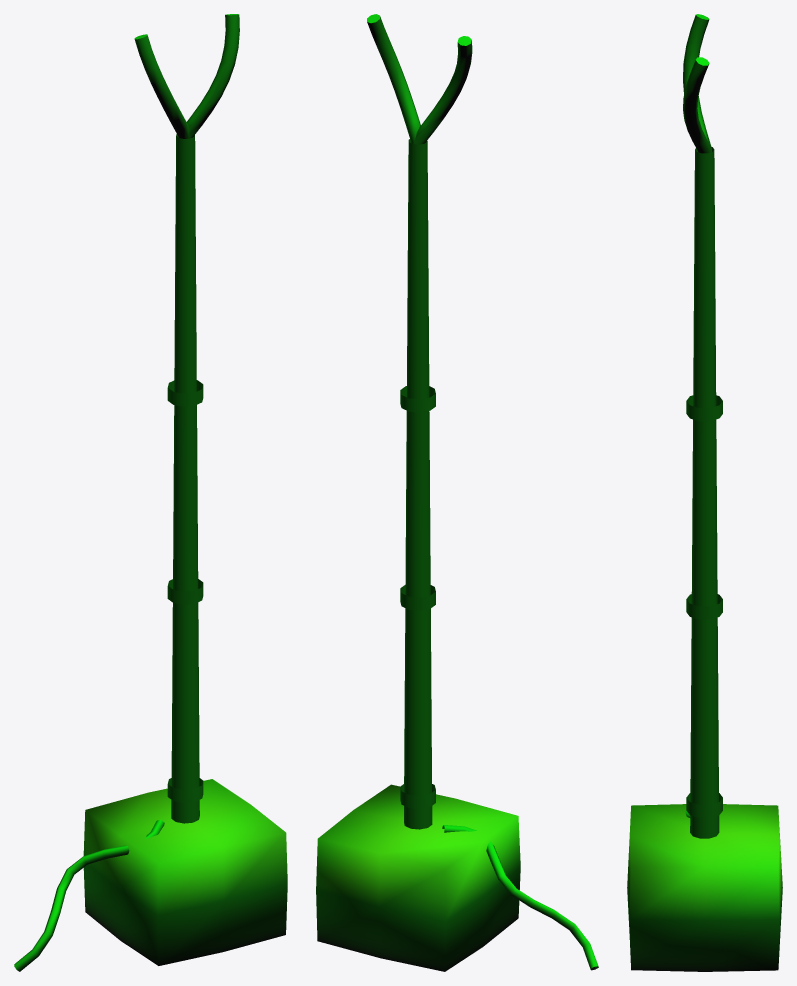
File: catch_rod.glb
3 renders of one model, left to right at view 1: azimuth 30°, elevation 25°; view 2: azimuth 150°, elevation 25°; view 3: azimuth 270°, elevation 25°, orthographic.
Visible parts, largest first — view 1: catch_rod; view 2: catch_rod; view 3: catch_rod.
Boxes of the visible parts, left/top/right/bottom form: catch_rod: left=14, top=14, right=287, bottom=971; catch_rod: left=316, top=14, right=598, bottom=971; catch_rod: left=627, top=14, right=782, bottom=971.
Size of what is drawn, in the model's own units: 1.16 by 4.11 by 0.6403.
